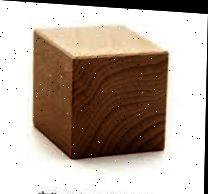cube: (30, 20, 169, 162)
